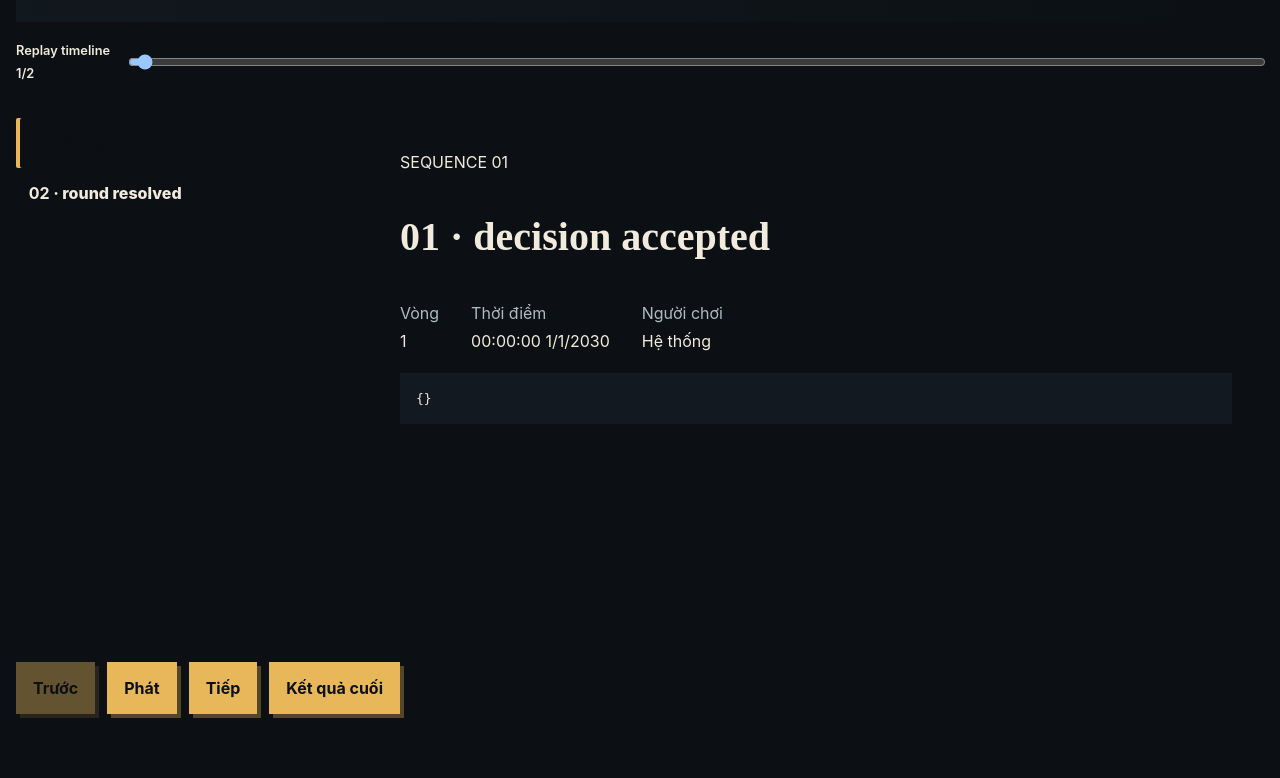
Test: ArenaReplayPage › orders events by sequence and advances one step at a time
(page scrolled)
Check: the heading "01 · decision accepted" is shown, box [400,214,770,259]
Click the button "Tiếp".
click(223, 688)  # box [189,662,257,714]
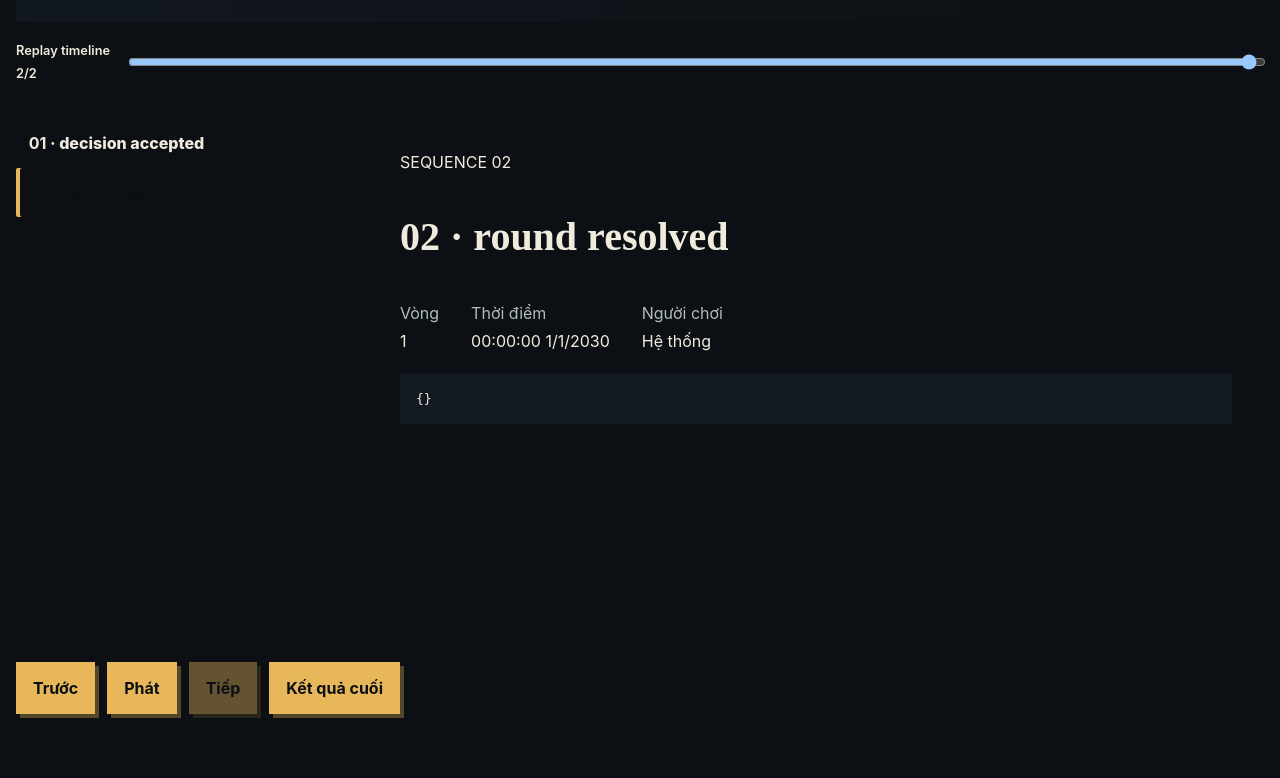
Check: the heading "02 · round resolved" is shown, box [400,214,729,259]
Click the button "Trước".
click(56, 688)  # box [16,662,95,714]
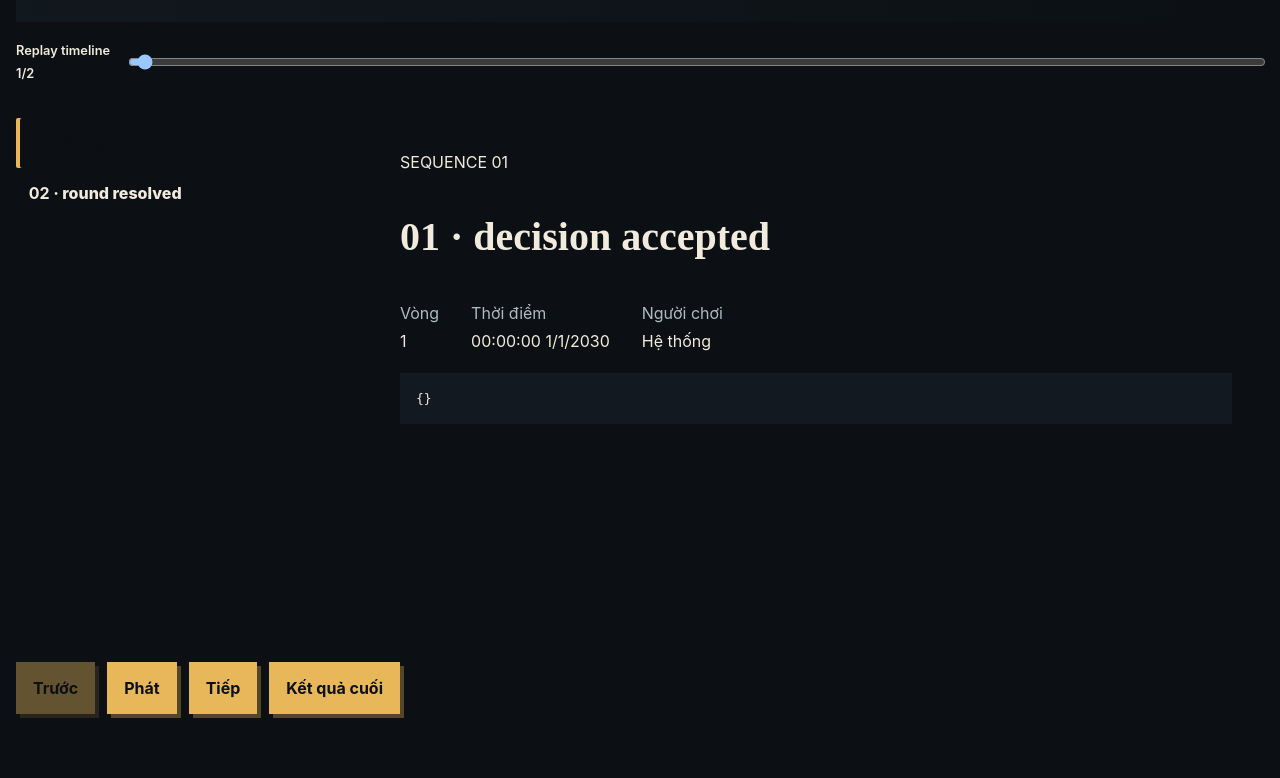
Check: the heading "01 · decision accepted" is shown, box [400,214,770,259]
